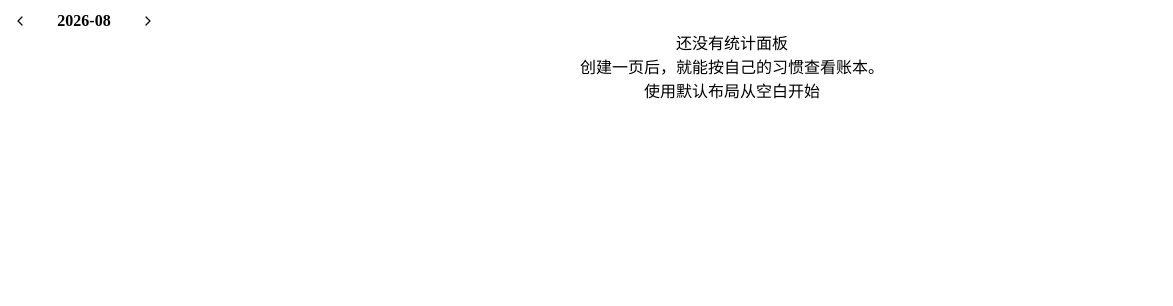
StatisticsDashboardWorkspace › creates an empty first page from the secondary first-use action
Click the button "从空白开始" at (780,90), box [740,78,820,102]
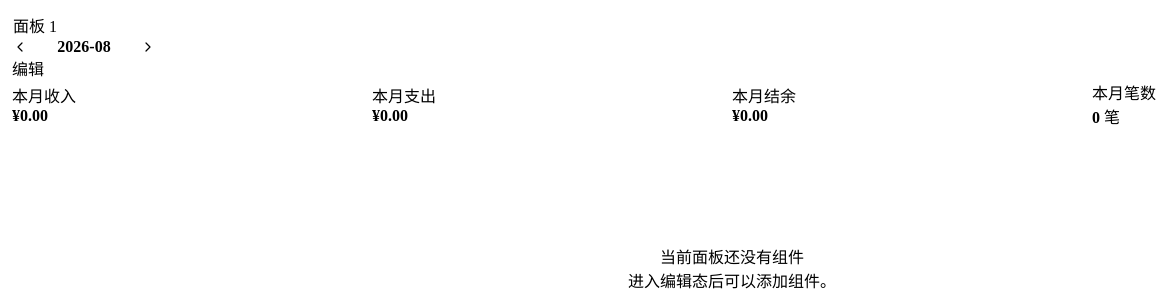
Check: the text "当前面板还没有组件" is shown, box [660,244,804,268]
